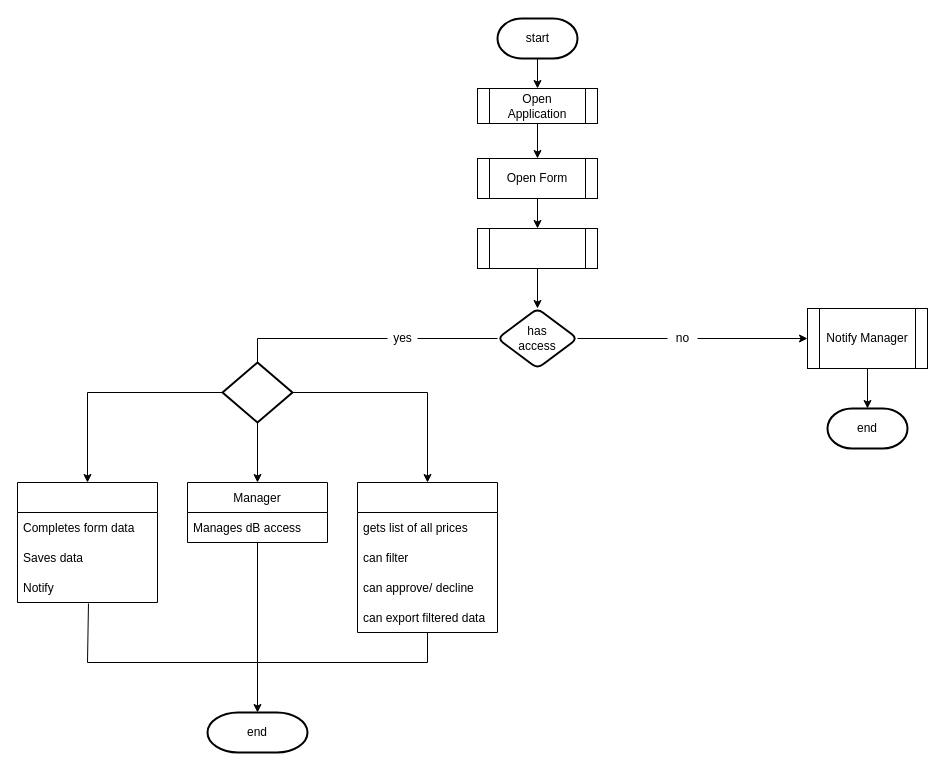
This 945x770 diagram has some shape labels left out. The box of each missing label's shape, as (x1, y1, x2, y2) in pixels:
Approver: (356, 482, 498, 632)
Client: (16, 482, 158, 602)
Prompt for Login: (476, 228, 598, 268)
user Is: (221, 361, 293, 423)
